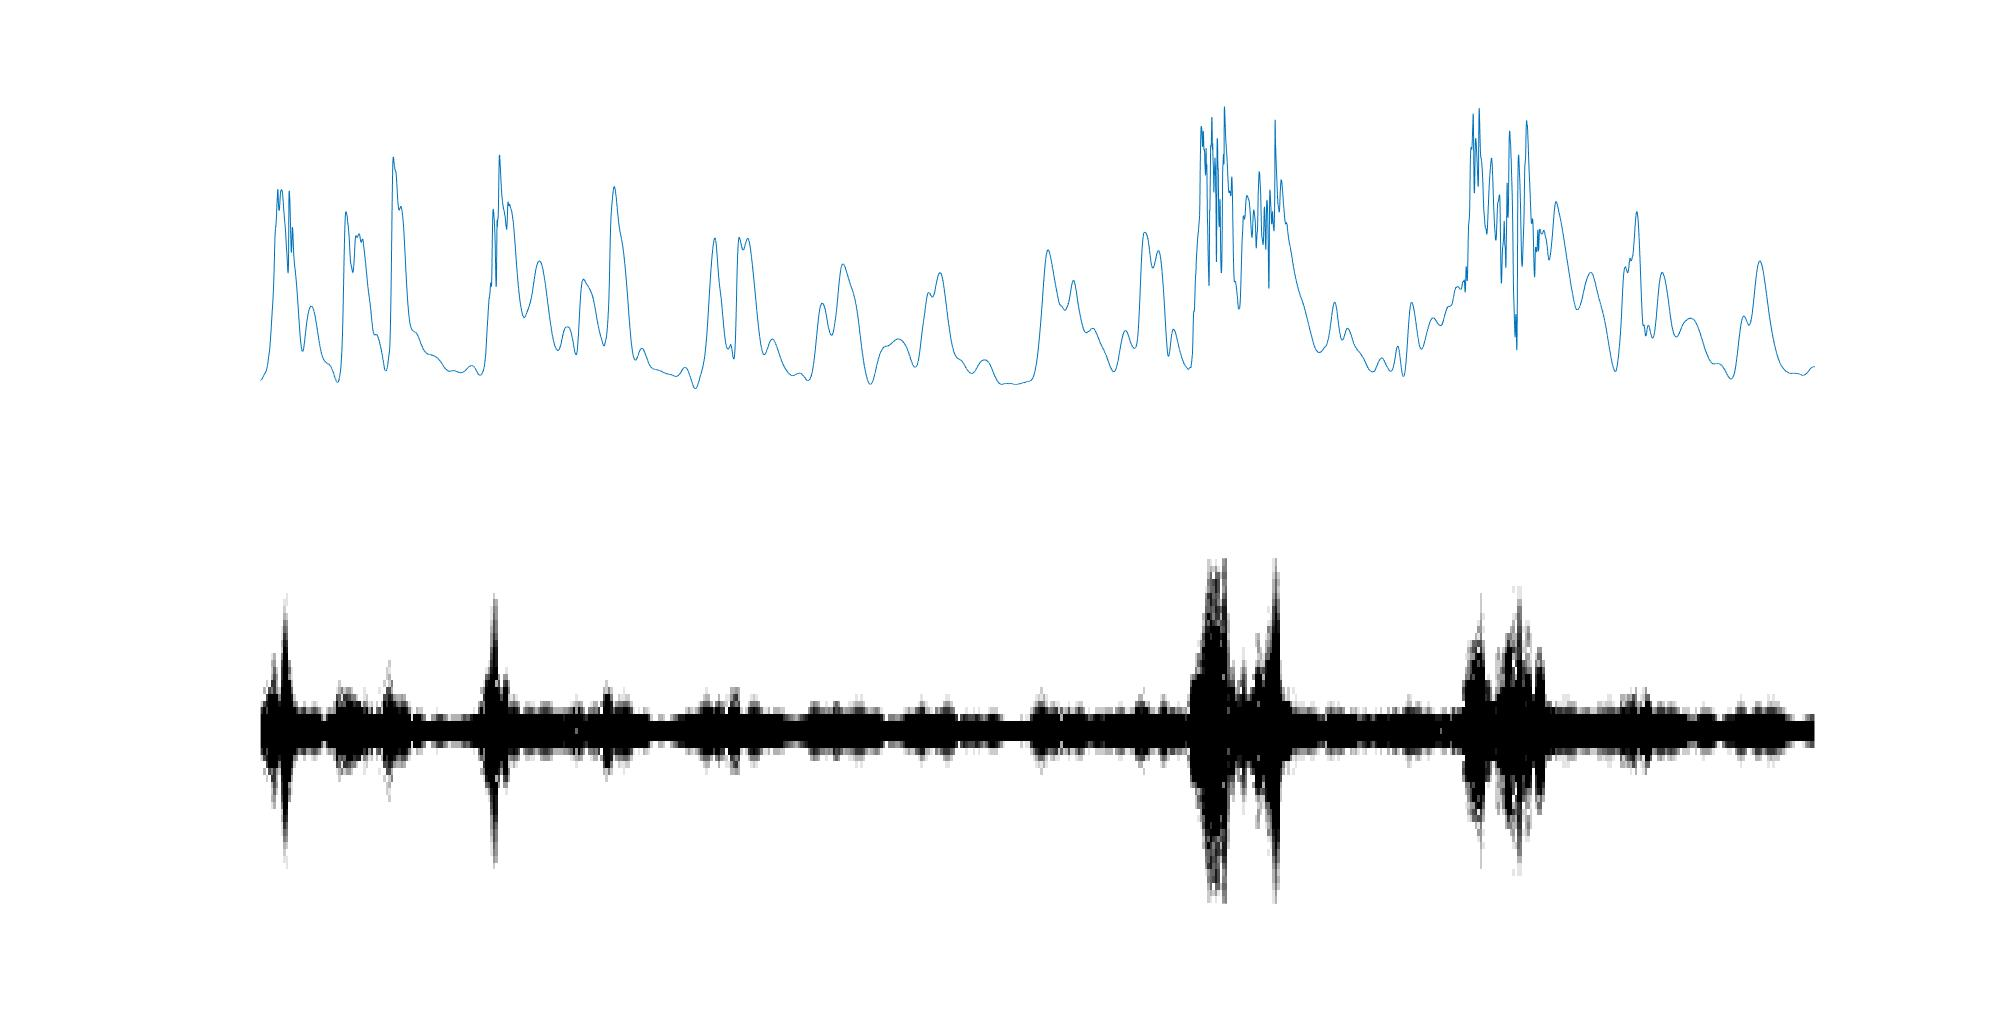kangaroo: (1192, 555, 1236, 908), (1247, 556, 1287, 912), (1499, 592, 1549, 870), (263, 592, 308, 859), (479, 591, 515, 873), (1464, 599, 1493, 860)
